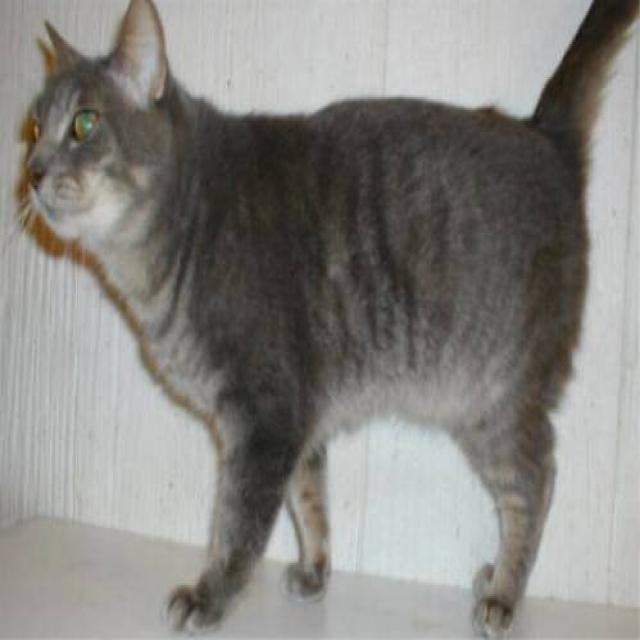cat: (13, 0, 639, 638)
